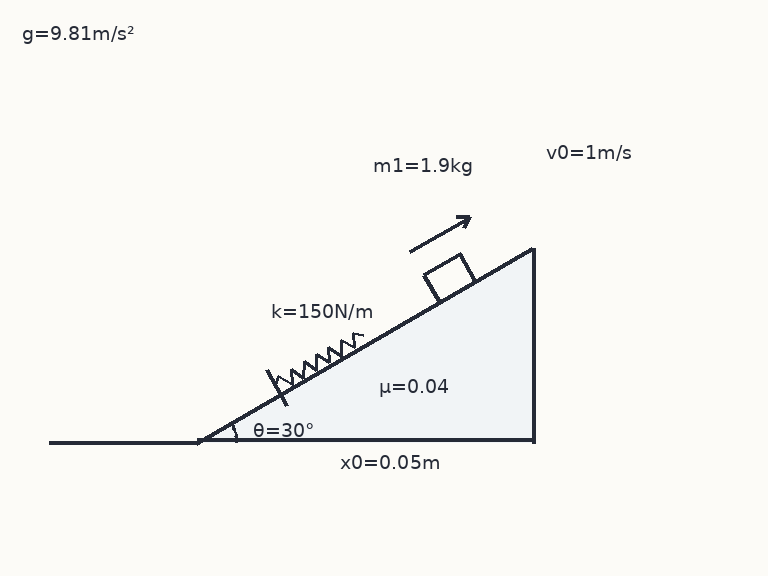block: (422, 252, 477, 304)
ramp: (194, 246, 534, 444)
spring: (273, 331, 365, 388)
